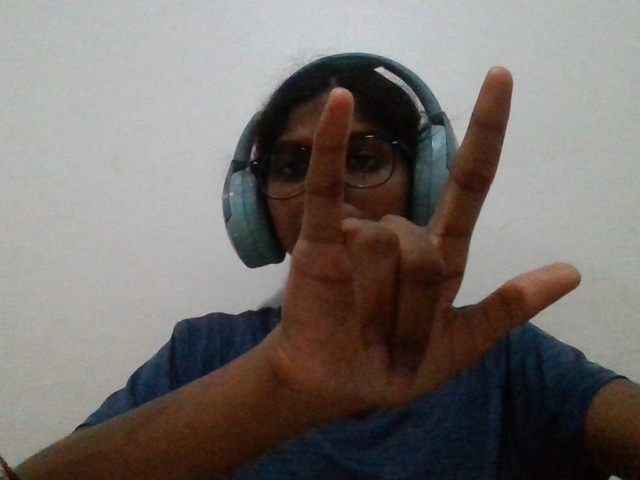I Love You: (236, 38, 589, 462)
